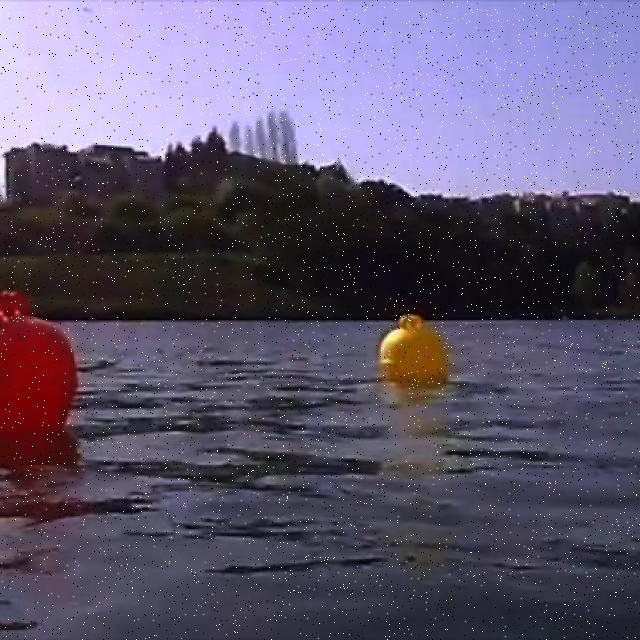buoy: (0, 293, 80, 445), (378, 311, 451, 387)
